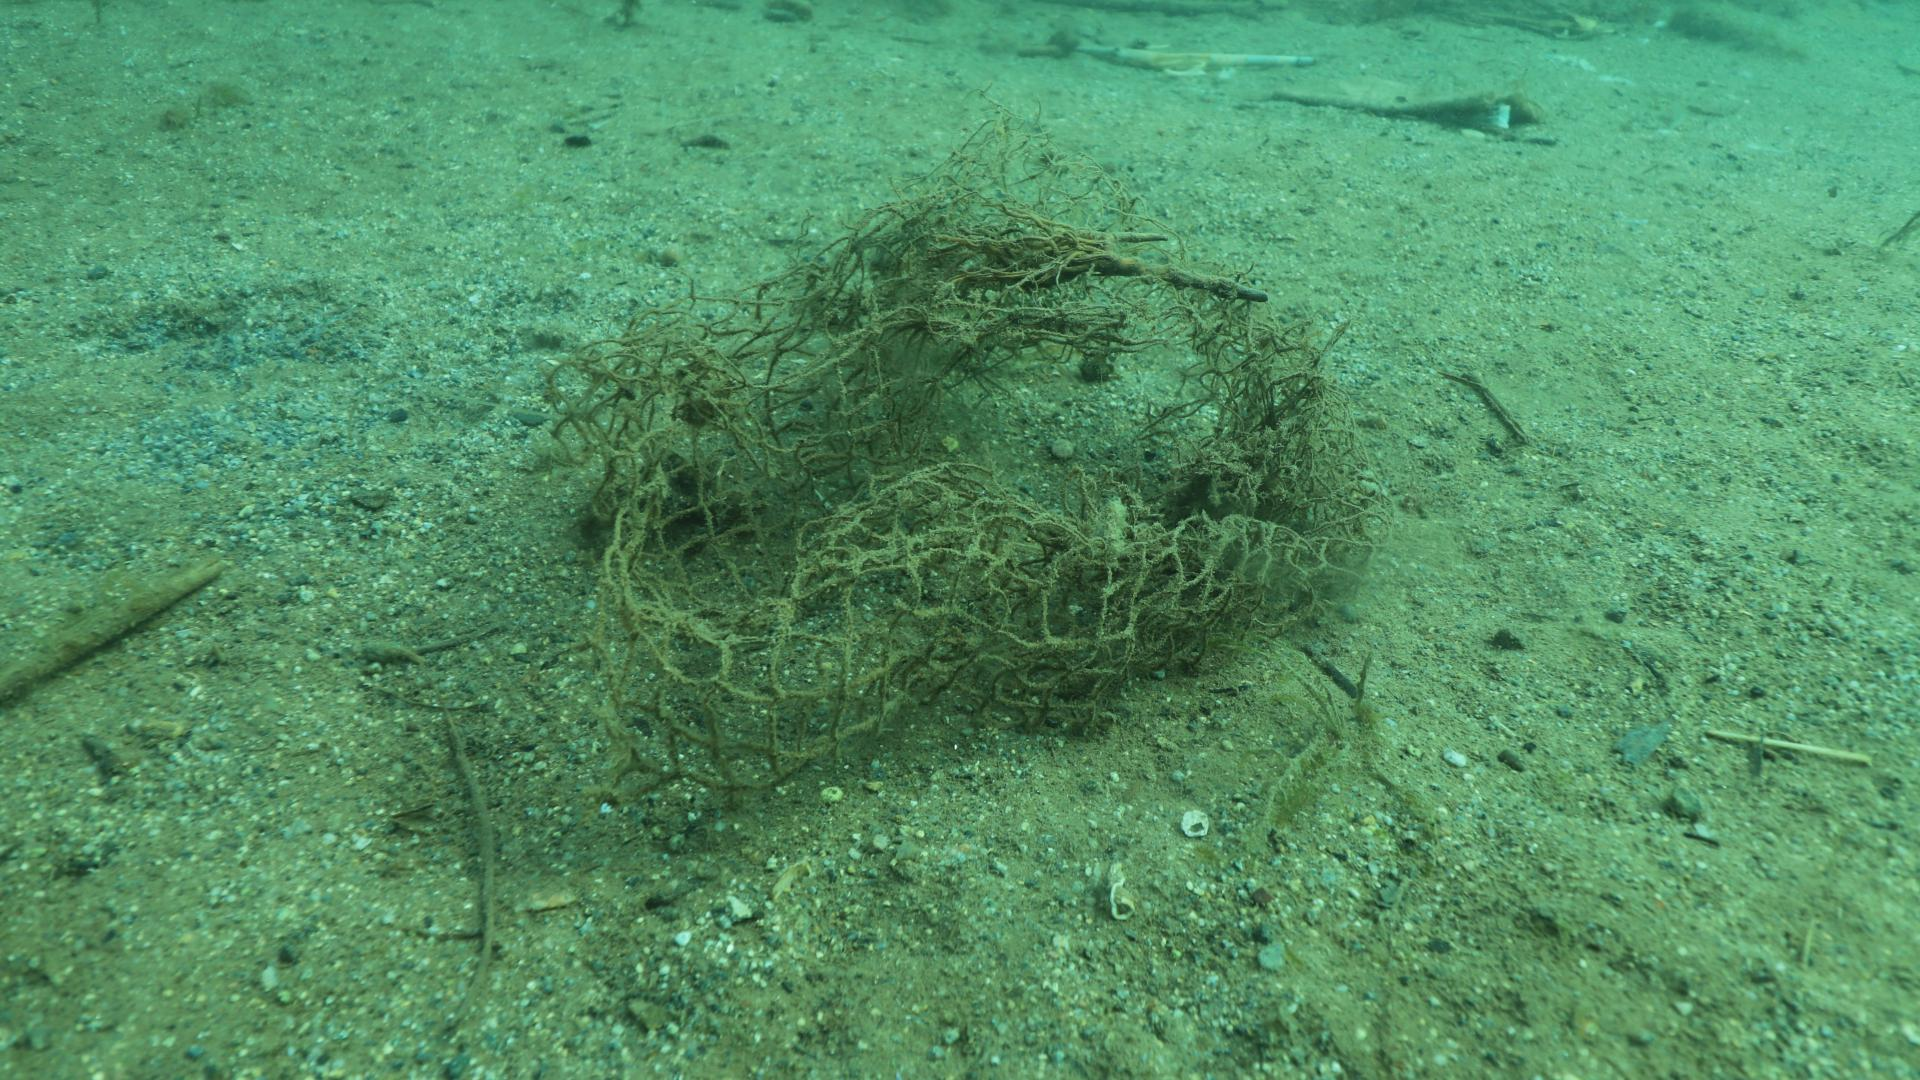fish net: (589, 462, 1327, 808)
